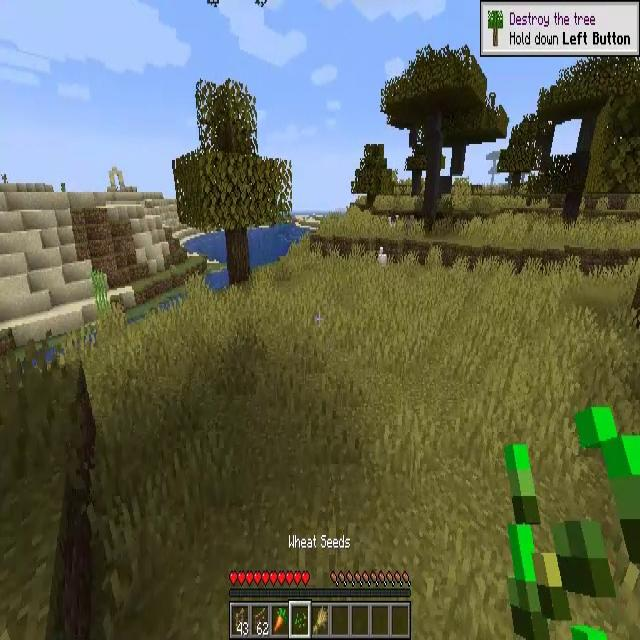duck: (377, 247, 388, 269)
